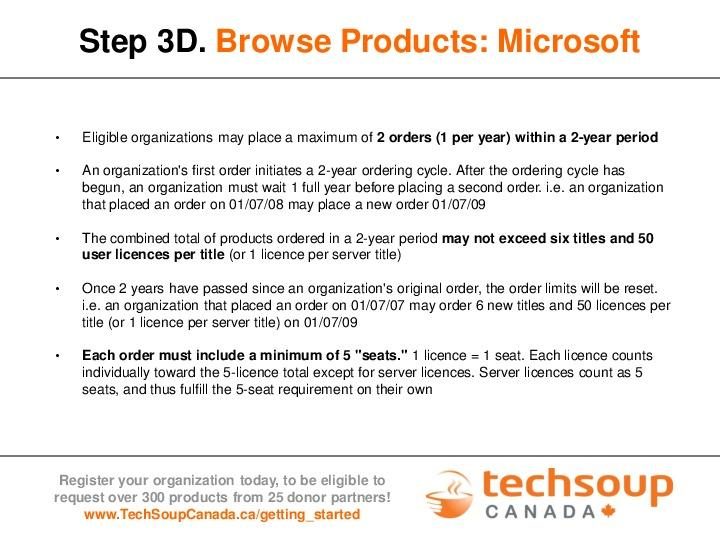paragraph: (45, 118, 691, 531)
title: (67, 14, 647, 71)
